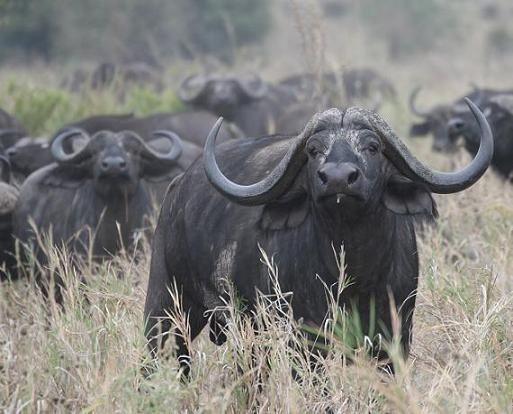buffalo: (140, 94, 493, 397), (11, 130, 184, 319), (177, 69, 319, 148), (406, 84, 513, 169)
